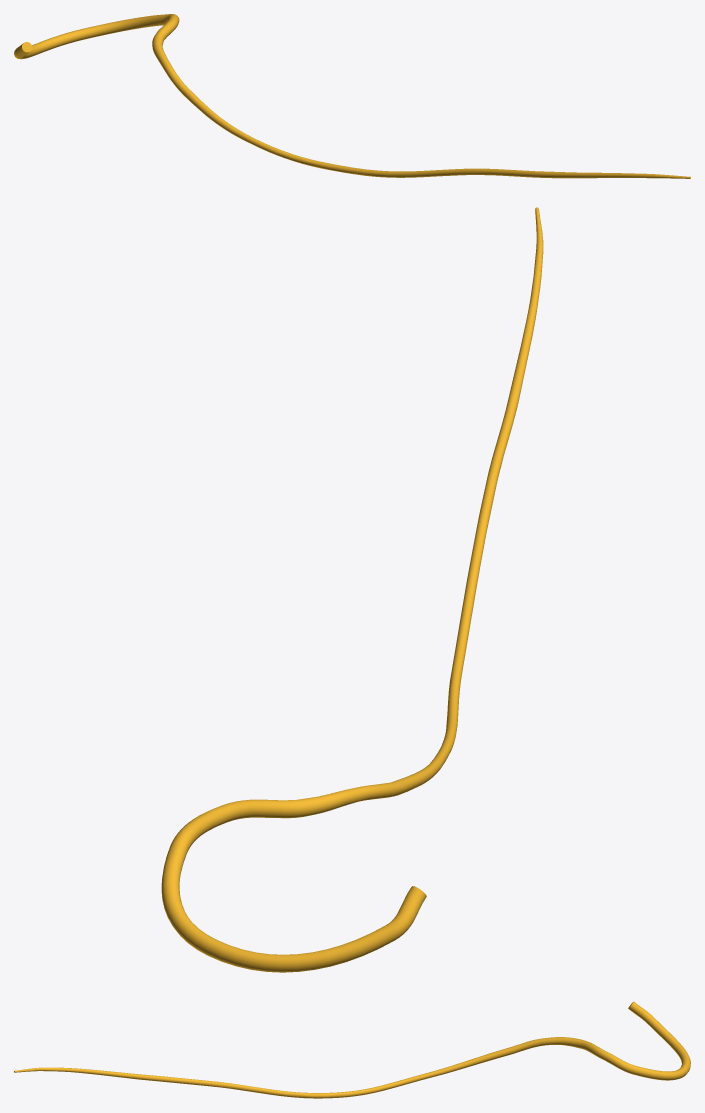
The model's file is nervoso-trochlear-nerve-iv-l.glb.
3 renders of one model, top to bottom at view 1: azimuth 30°, elevation 25°; view 2: azimuth 150°, elevation 25°; view 3: azimuth 270°, elevation 25°, orthographic. The views are drawn at different scales.
Visible parts, largest first — view 1: Trochlear nerve (IV).l; view 2: Trochlear nerve (IV).l; view 3: Trochlear nerve (IV).l.
Boxes of the visible parts, x1=… form: Trochlear nerve (IV).l: x1=14, y1=14, x2=690, y2=178; Trochlear nerve (IV).l: x1=161, y1=207, x2=543, y2=972; Trochlear nerve (IV).l: x1=14, y1=1001, x2=690, y2=1098.
Bounding box in the file's own units: 0.032 × 0.0107 × 0.0739.
